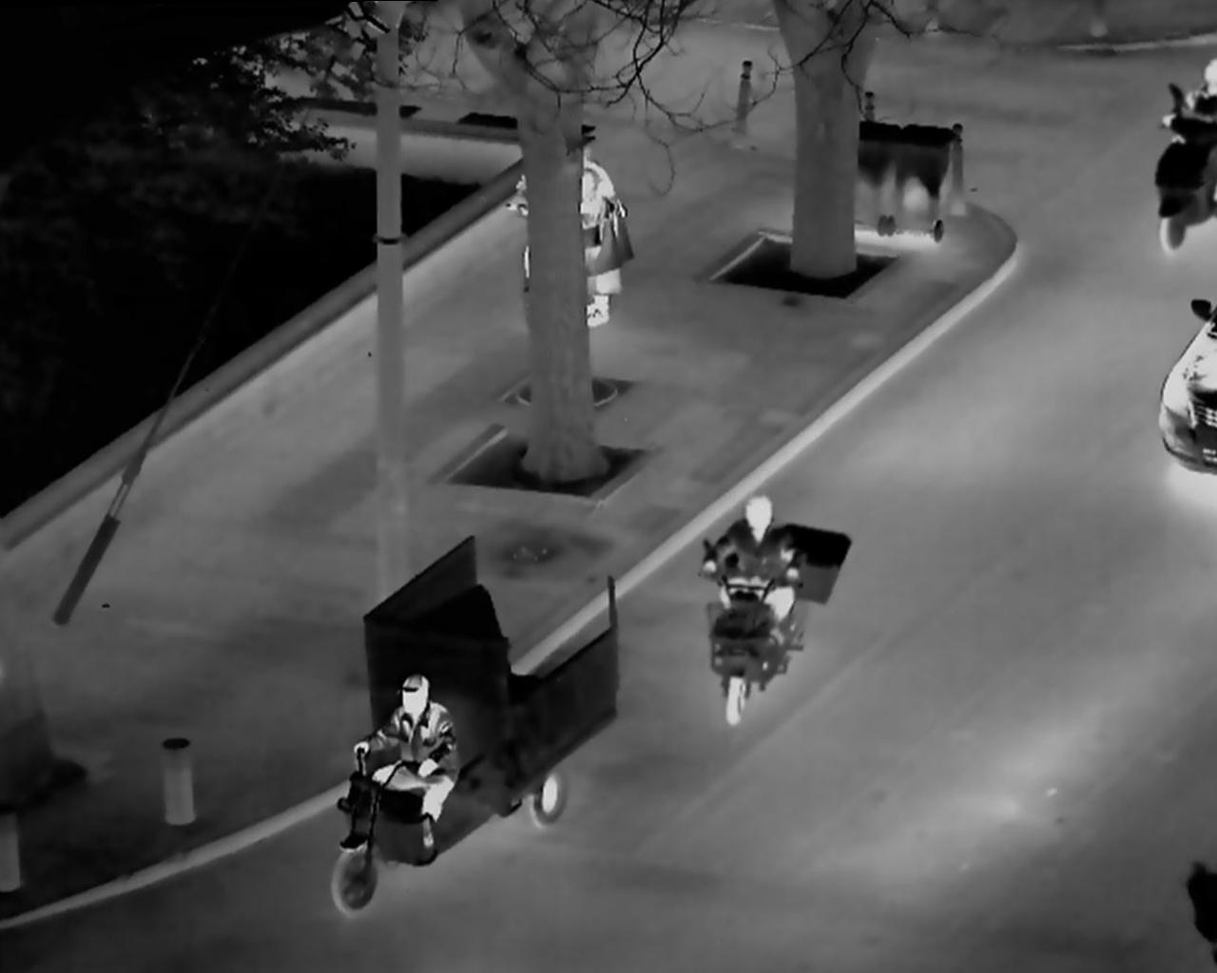person: (698, 480, 815, 735), (341, 665, 469, 878), (563, 143, 647, 315), (1163, 54, 1217, 208)
